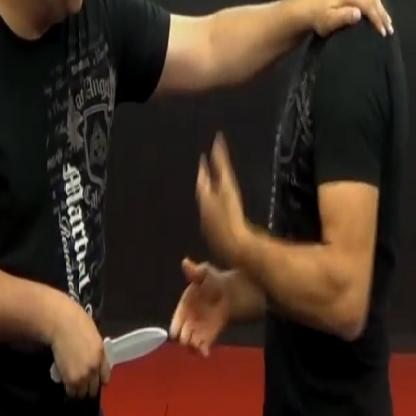knife: (47, 316, 168, 398)
